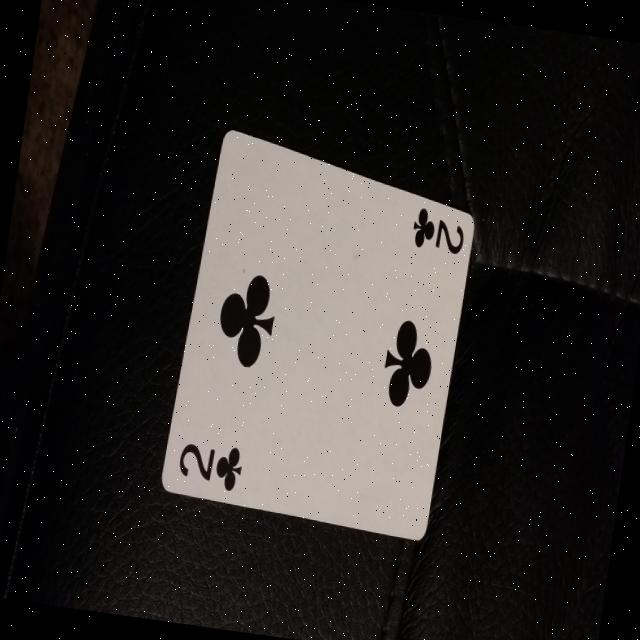2c: (168, 420, 254, 506), (398, 190, 479, 270)
